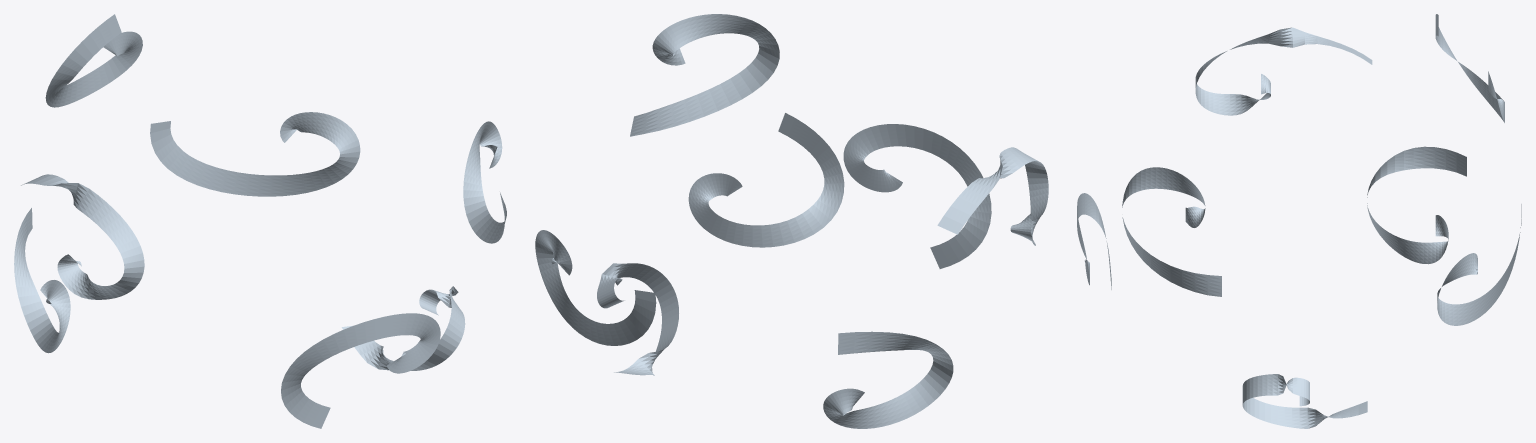
Rendered from Ganyu_CelestialShowerState_State_PearlCloudScrolls.fbx.
3 renders of one model, left to right at view 1: azimuth 30°, elevation 25°; view 2: azimuth 150°, elevation 25°; view 3: azimuth 270°, elevation 25°, orthographic. The views are drawn at different scales.
Parts seen in each view (by area): view 1: PART_AuthoredCloudScroll_3, PART_AuthoredCloudScroll_2, PART_AuthoredCloudScroll_4, PART_AuthoredCloudScroll_6, PART_AuthoredCloudScroll_1, PART_AuthoredCloudScroll_5, PART_AuthoredCloudScroll_0; view 2: PART_AuthoredCloudScroll_5, PART_AuthoredCloudScroll_6, PART_AuthoredCloudScroll_2, PART_AuthoredCloudScroll_1, PART_AuthoredCloudScroll_3, PART_AuthoredCloudScroll_4, PART_AuthoredCloudScroll_0; view 3: PART_AuthoredCloudScroll_5, PART_AuthoredCloudScroll_1, PART_AuthoredCloudScroll_0, PART_AuthoredCloudScroll_4, PART_AuthoredCloudScroll_3, PART_AuthoredCloudScroll_6, PART_AuthoredCloudScroll_2.
Part boxes in pixels (box(x1,y1,x2,y2)): PART_AuthoredCloudScroll_3: box(150, 112, 360, 196); PART_AuthoredCloudScroll_2: box(281, 313, 440, 428); PART_AuthoredCloudScroll_4: box(21, 174, 144, 299); PART_AuthoredCloudScroll_6: box(45, 14, 142, 107); PART_AuthoredCloudScroll_1: box(14, 208, 70, 353); PART_AuthoredCloudScroll_5: box(463, 121, 506, 243); PART_AuthoredCloudScroll_0: box(341, 286, 465, 370); PART_AuthoredCloudScroll_5: box(630, 14, 779, 136); PART_AuthoredCloudScroll_6: box(688, 113, 844, 247); PART_AuthoredCloudScroll_2: box(843, 124, 991, 268); PART_AuthoredCloudScroll_1: box(823, 331, 953, 428); PART_AuthoredCloudScroll_3: box(535, 230, 656, 345); PART_AuthoredCloudScroll_4: box(937, 147, 1048, 245); PART_AuthoredCloudScroll_0: box(597, 263, 678, 375); PART_AuthoredCloudScroll_5: box(1122, 167, 1221, 296); PART_AuthoredCloudScroll_1: box(1367, 146, 1466, 264); PART_AuthoredCloudScroll_0: box(1242, 374, 1367, 428); PART_AuthoredCloudScroll_4: box(1195, 27, 1372, 115); PART_AuthoredCloudScroll_3: box(1437, 204, 1521, 325); PART_AuthoredCloudScroll_6: box(1435, 14, 1504, 122); PART_AuthoredCloudScroll_2: box(1077, 193, 1111, 289).
Bounding box in the file's own units: 128 × 103 × 128.
